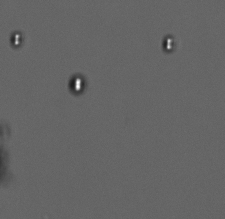Living Cell: (67, 73, 86, 95), (161, 33, 178, 53), (8, 31, 27, 47)
